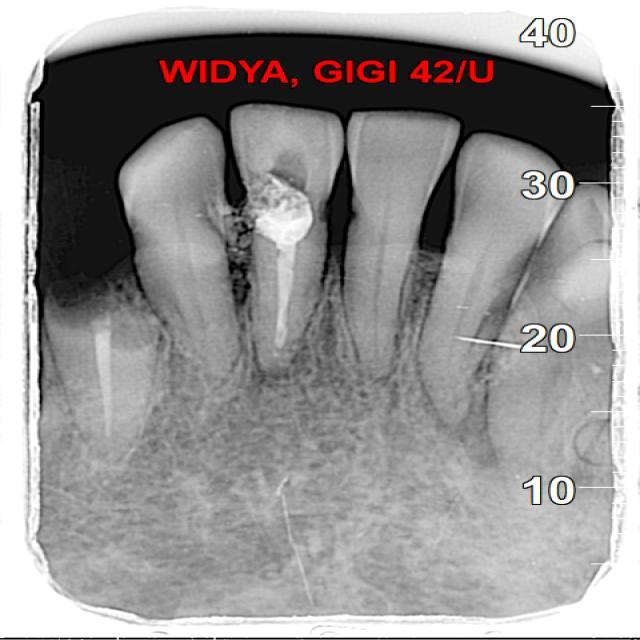individual-tooth-8tto: (415, 134, 554, 432), (120, 118, 239, 385), (347, 112, 461, 378), (235, 107, 340, 376)
